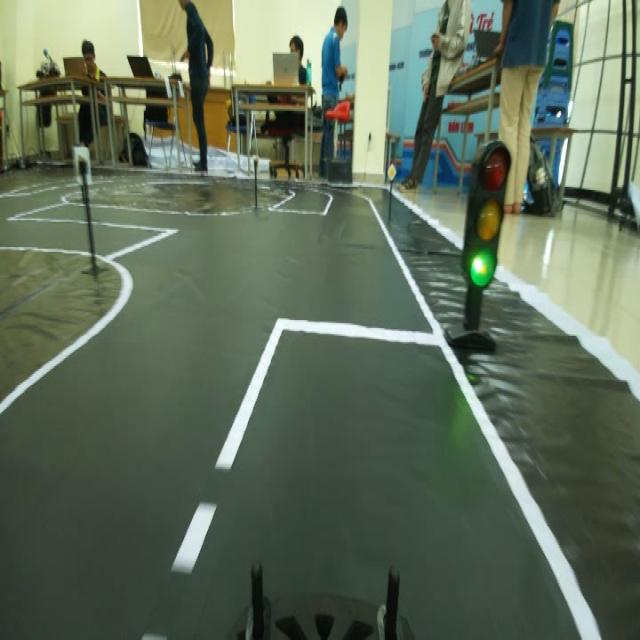trafficlight: (455, 138, 514, 298)
